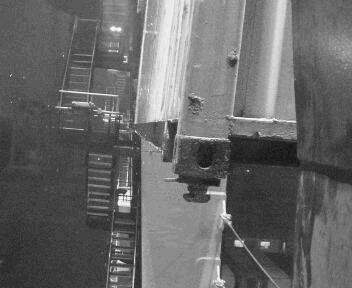twist_lock_1: (160, 173, 217, 222)
